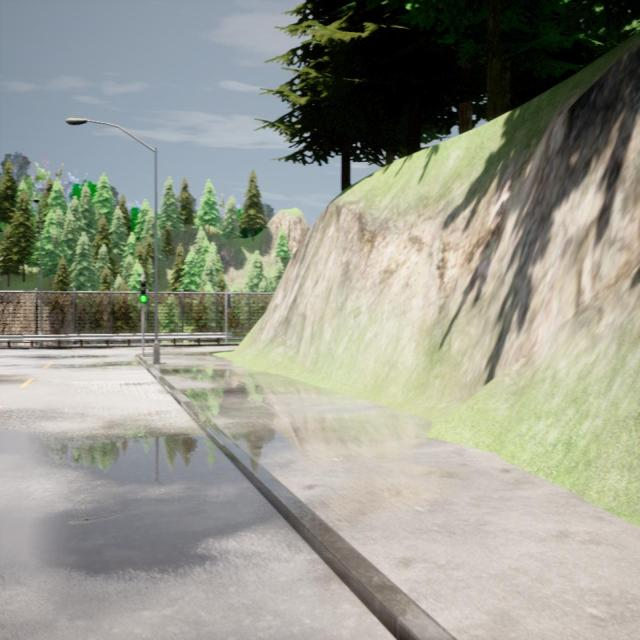traffic_light: (140, 280, 148, 303), (228, 293, 232, 309)
